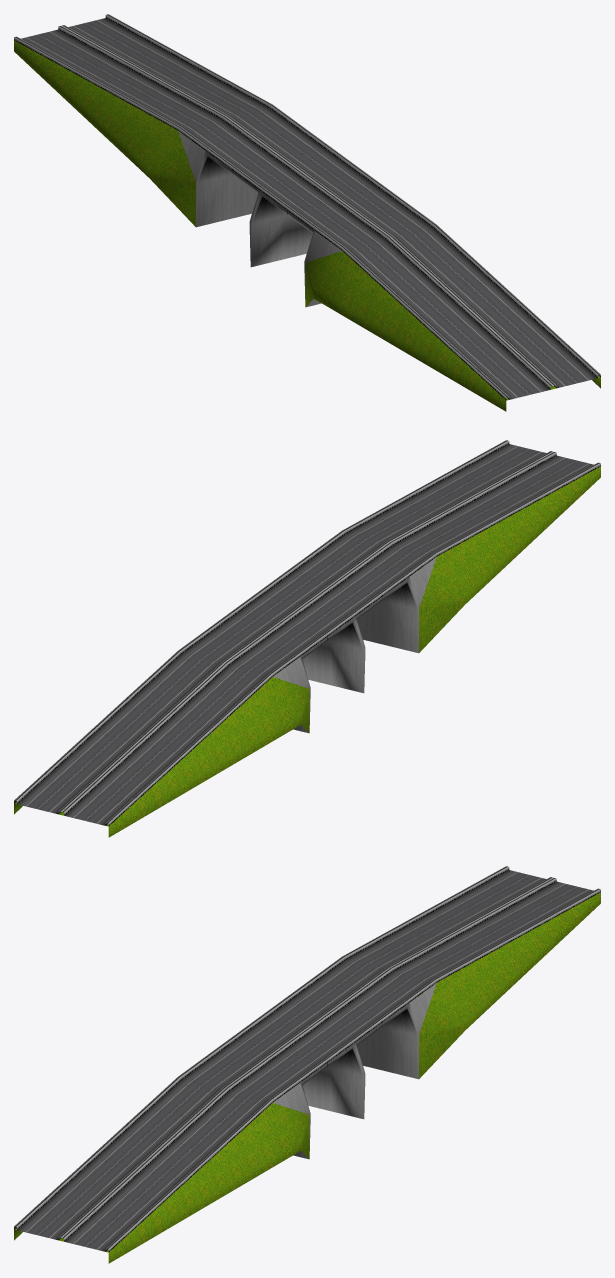
Rendered from brug_snelweg_1b.fbx.
The picture shows the model from 3 angles, top to bottom: view 1: azimuth 30°, elevation 25°; view 2: azimuth 150°, elevation 25°; view 3: azimuth 330°, elevation 25°; orthographic projection.
Visible parts, largest first — view 1: brug_snelweg_1b; view 2: brug_snelweg_1b; view 3: brug_snelweg_1b.
Part boxes in pixels (x1,y1,x2,y2): brug_snelweg_1b: (14,14,600,411); brug_snelweg_1b: (14,440,600,837); brug_snelweg_1b: (14,866,600,1263).
Bounding box in the file's own units: 3200 × 1563 × 18001.
